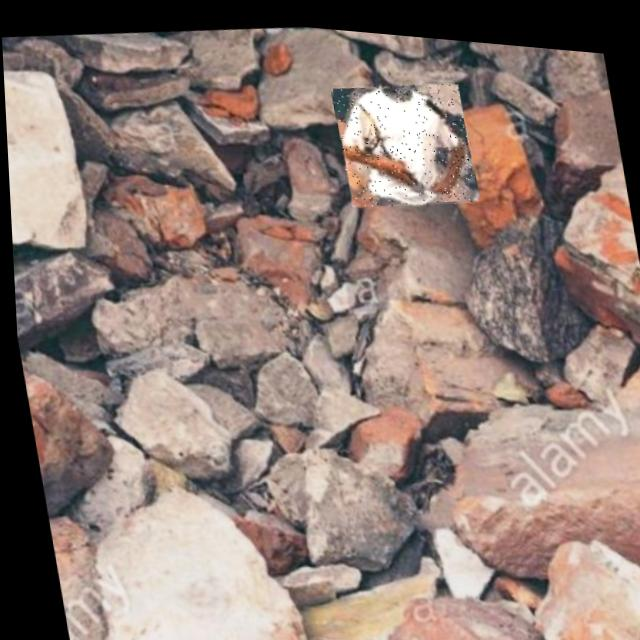Person in Rubble: (330, 65, 478, 209)
